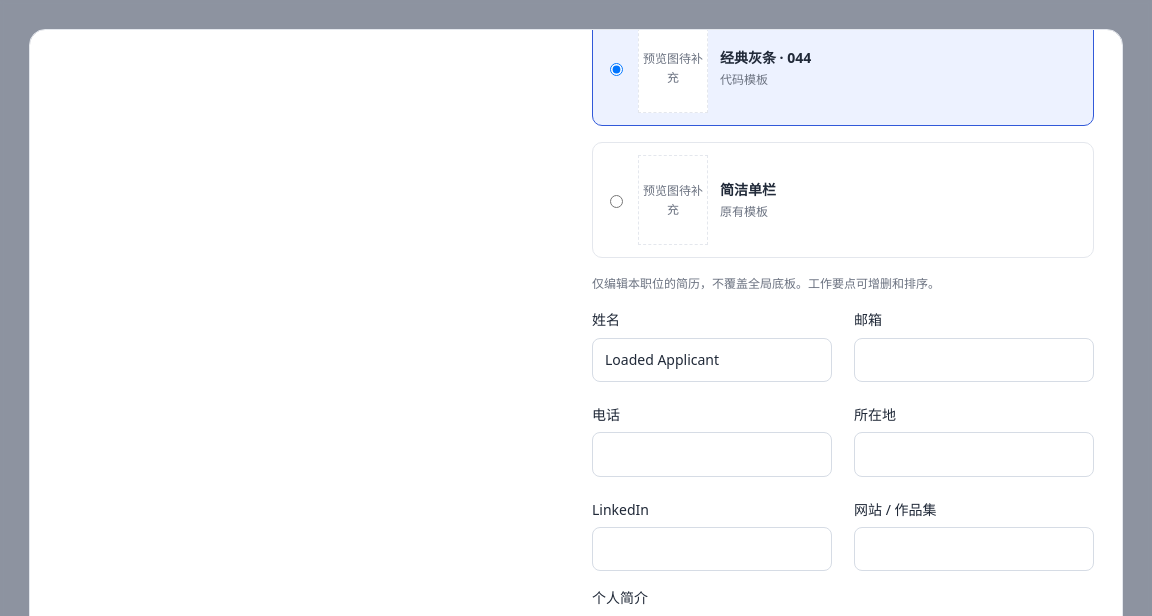
Test: job editor and PDF templates › clones plain API data before Vue wraps it and keeps editing separate from the loaded record
(page scrolled)
Replace the text in the field labelled "姓名" with "Edited Applicant" at (712, 360), box 592,338 -> 832,382
(page scrolled)
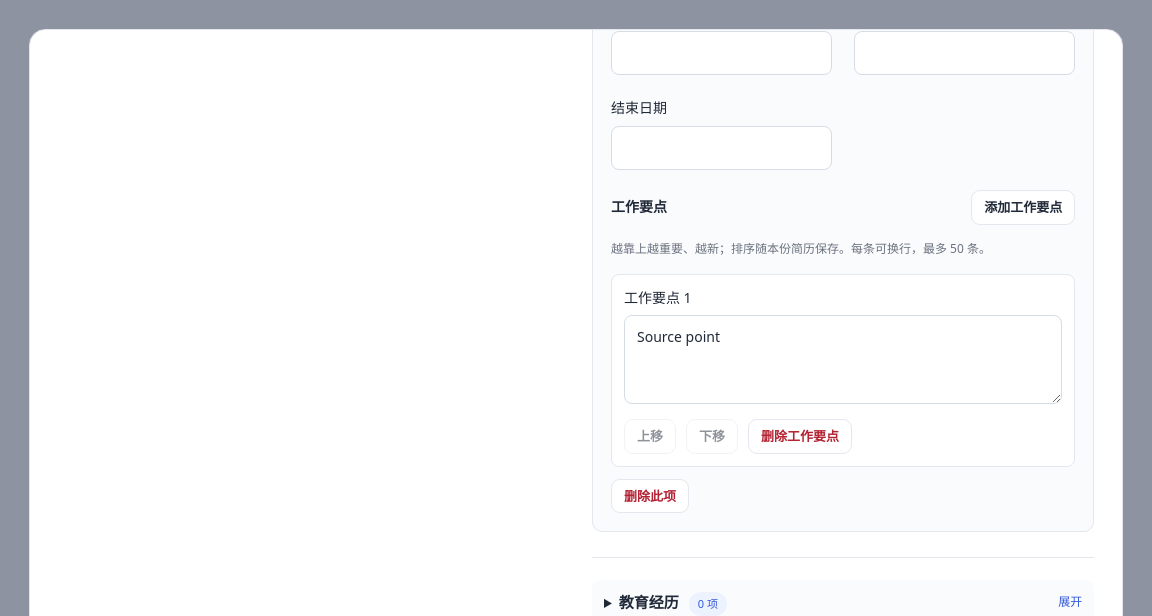
Expected: the text box labelled "工作要点 1" holds "Source point", 624,315 -> 1062,404
